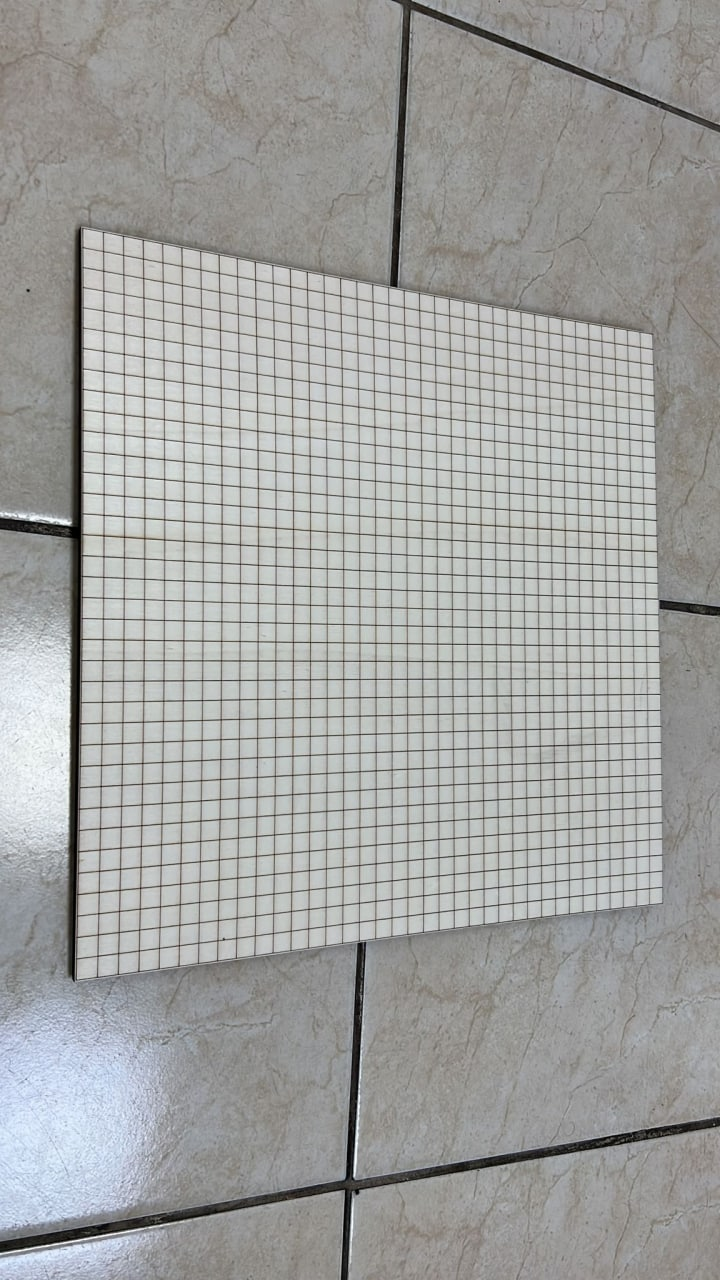grid: (56, 216, 670, 989)
